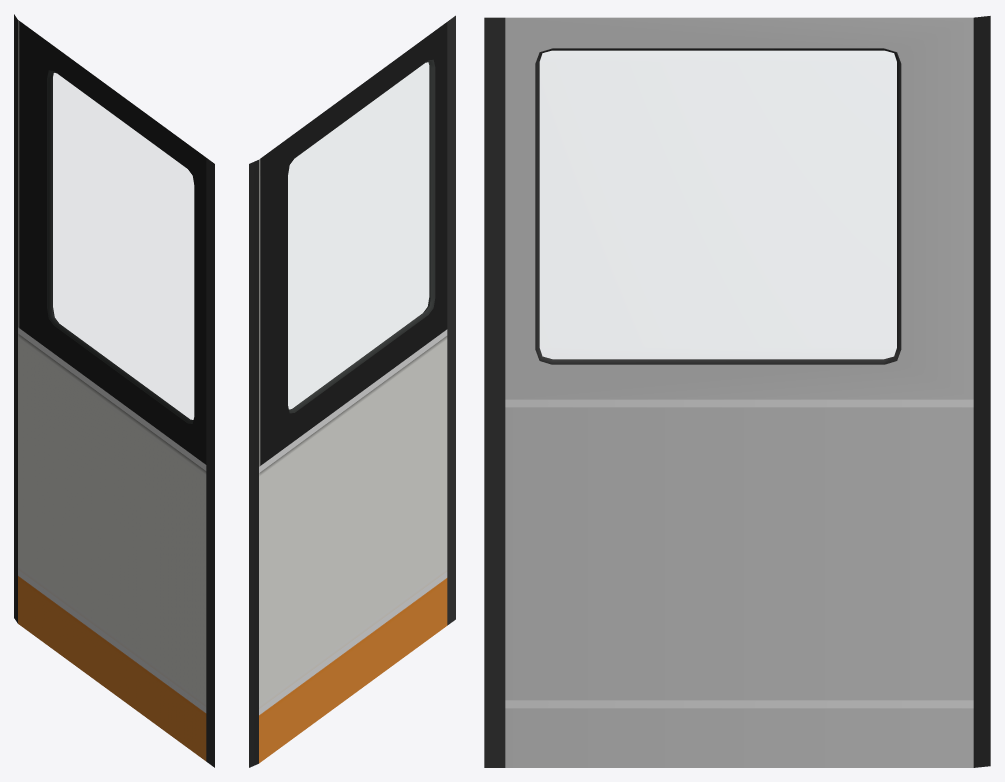
File: RearDoor.glb
3 renders of one model, left to right at view 1: azimuth 30°, elevation 25°; view 2: azimuth 150°, elevation 25°; view 3: azimuth 270°, elevation 25°, orthographic. The views are drawn at different scales.
Parts seen in each view (by area): view 1: 側面L-中扉; view 2: 側面L-中扉; view 3: 側面L-中扉.
Part boxes in pixels (box(x1,y1,x2,y2)): 側面L-中扉: box(14, 14, 214, 767); 側面L-中扉: box(249, 15, 455, 767); 側面L-中扉: box(484, 16, 990, 767).
Size of the model in its own units: 0.02 by 1.95 by 1.19.
Materials: 6 (1 with a texture image).
